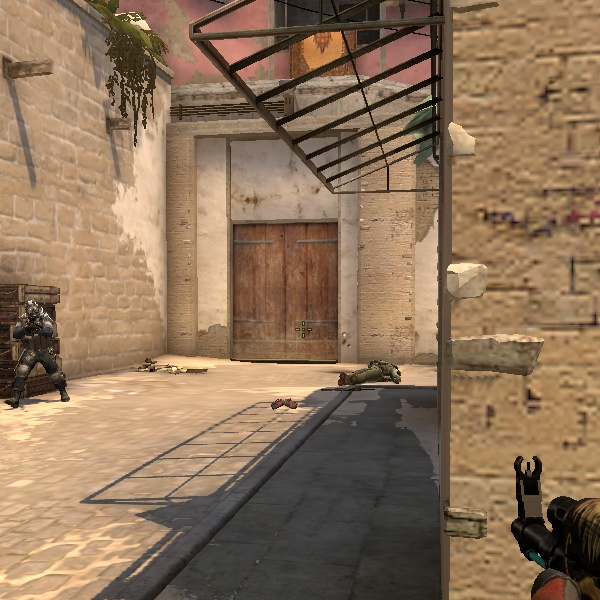ct_body: (4, 292, 75, 405)
ct_head: (19, 297, 50, 324)
